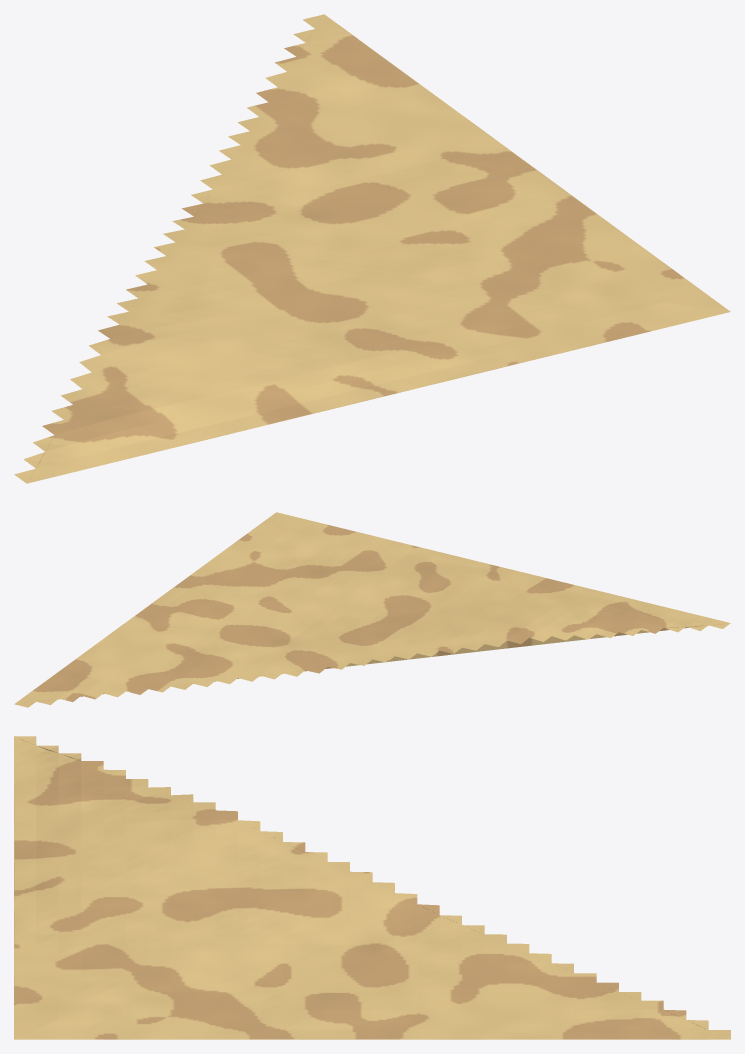
Rendered from Desert_Flat_07_NE.obj.
The picture shows the model from 3 angles, top to bottom: view 1: azimuth 30°, elevation 25°; view 2: azimuth 150°, elevation 25°; view 3: azimuth 270°, elevation 25°; orthographic projection. The views are drawn at different scales.
Size of the model in its own units: 10 by 0.1844 by 10.
Materials: 1 (1 with a texture image).
